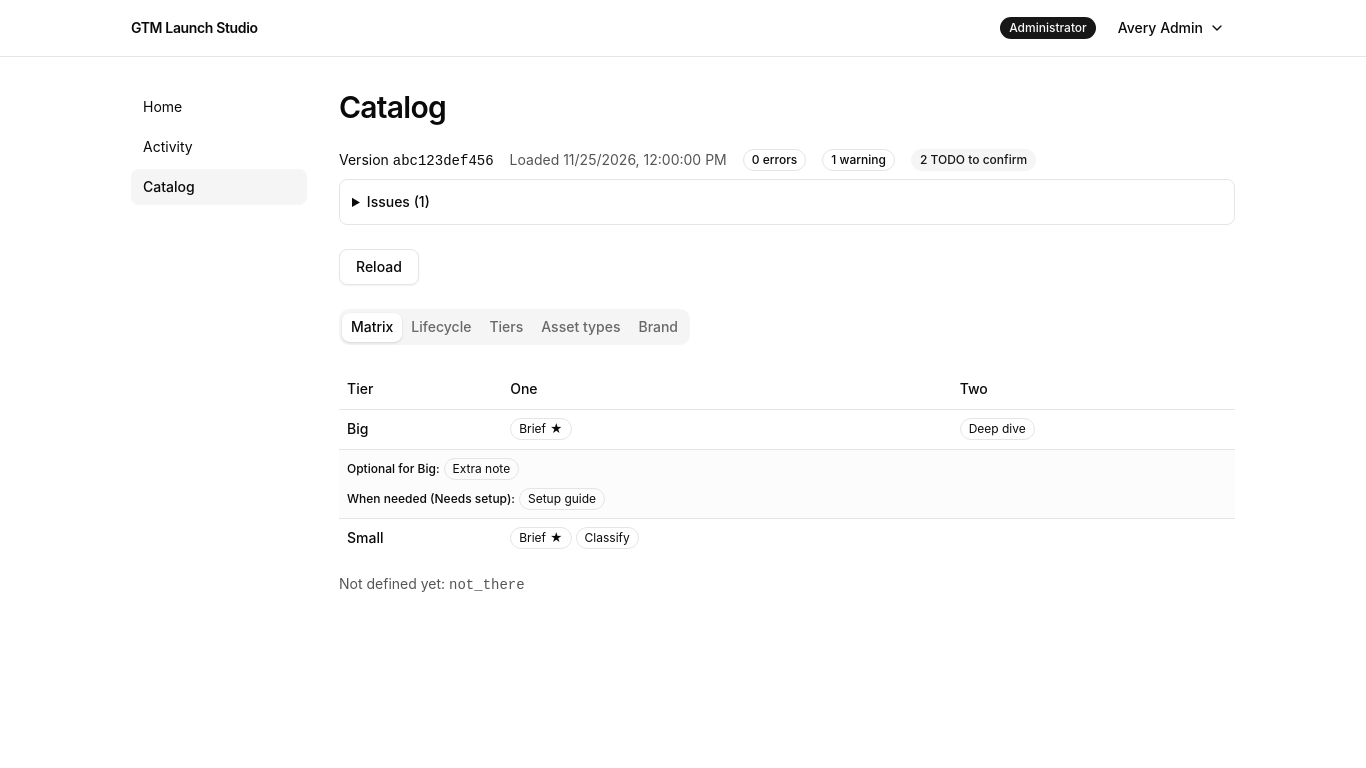
it: CatalogPage › Reload › says so when the reload itself fails
The image size is (1366, 768).
Expected: the heading "Catalog" is shown, [339,89,446,125]
Click the button "Reload": (379, 267) [339,249,419,285]
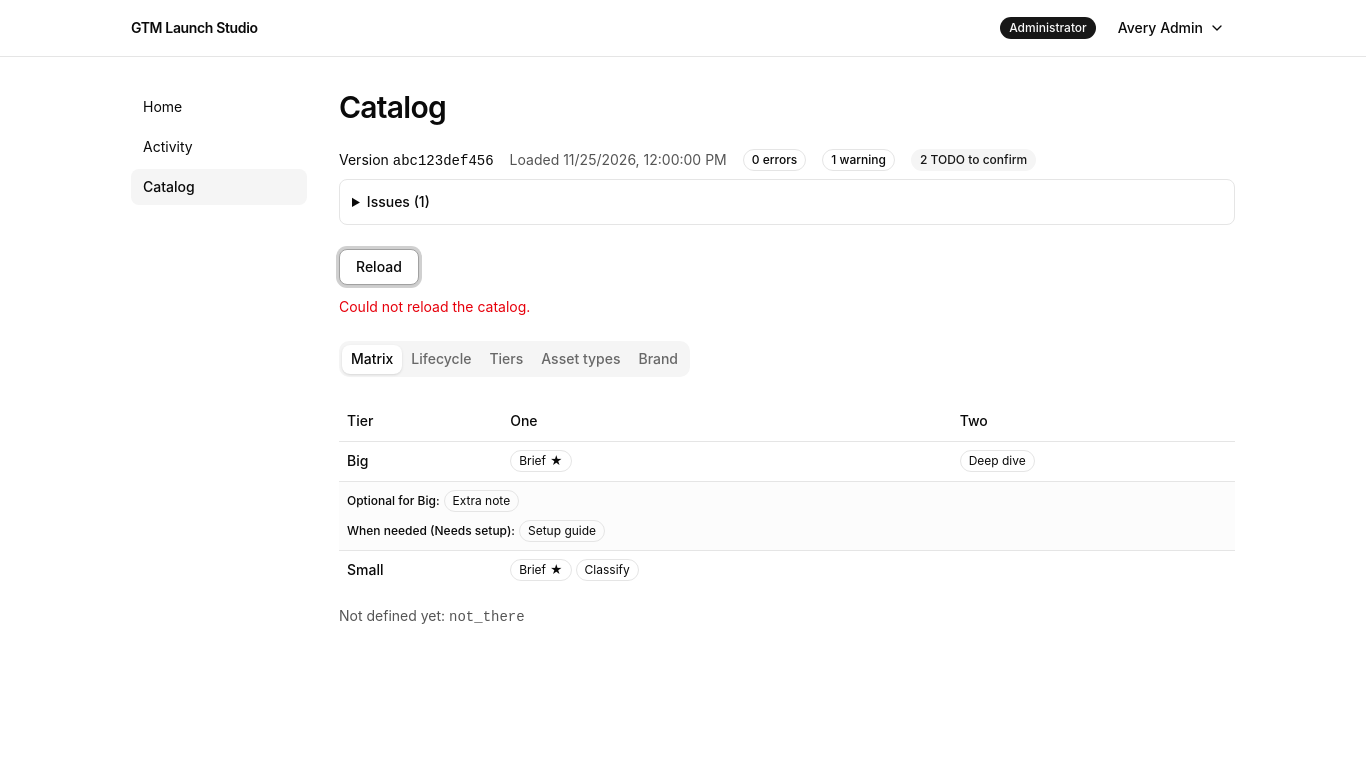
Expected: the message shows "Could not reload the catalog", [339,298,530,315]
